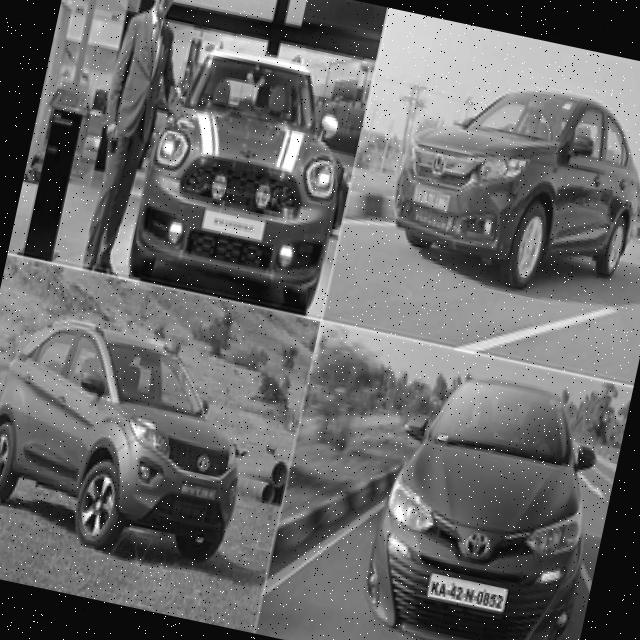Autre: (424, 571, 512, 611), (201, 208, 271, 240), (405, 177, 457, 218), (178, 482, 222, 508)
